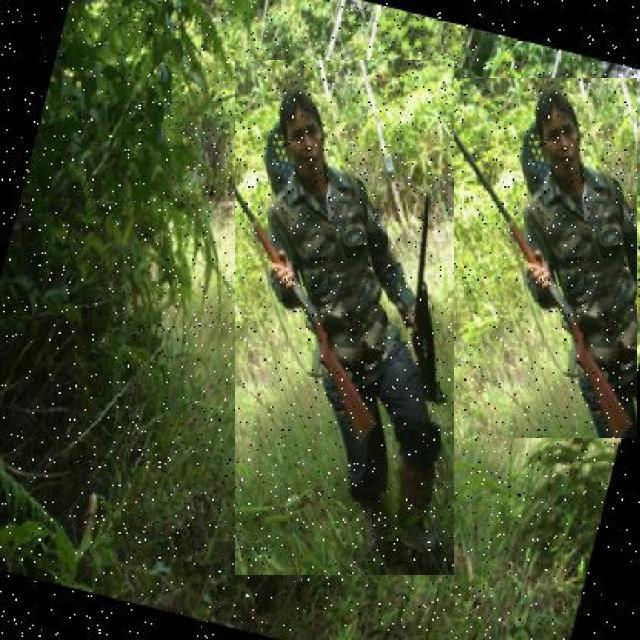poacher: (235, 60, 454, 575)
weapon: (308, 79, 637, 438), (229, 182, 289, 424)
